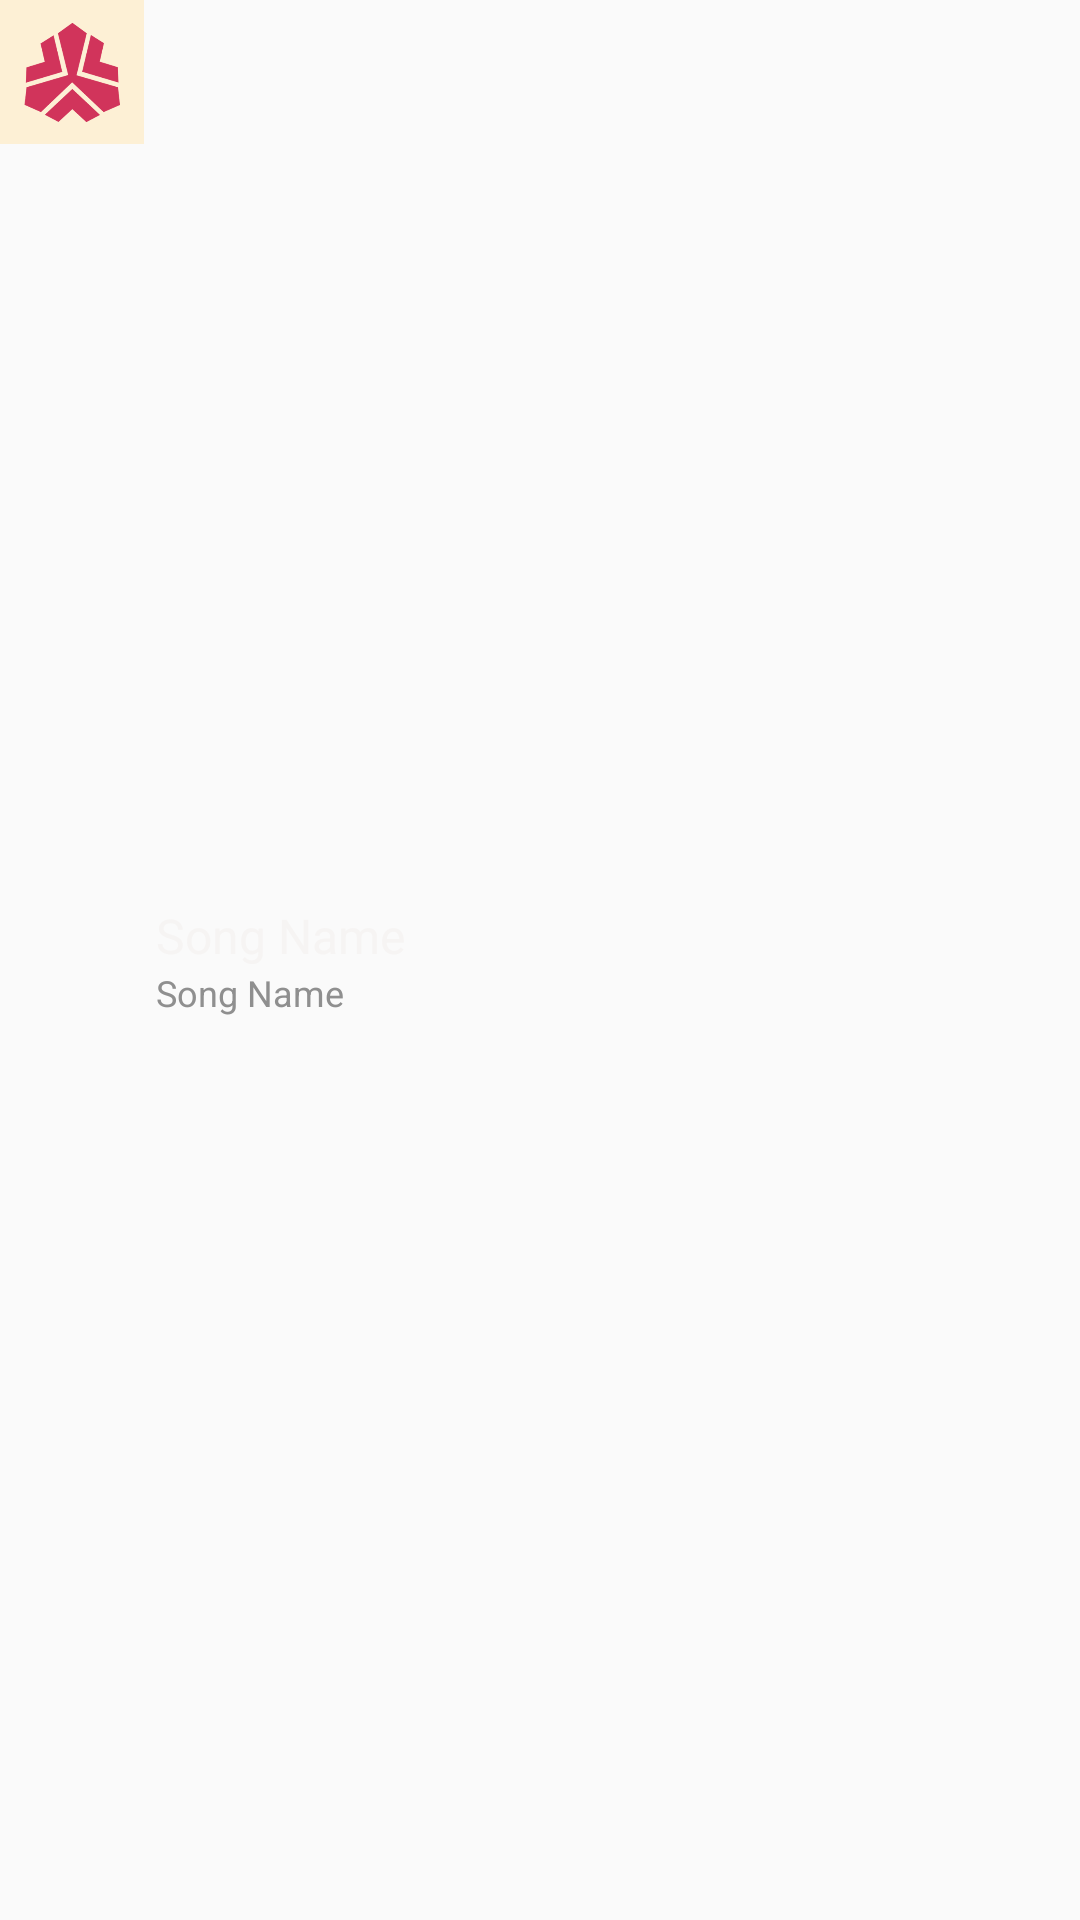

Icons on this 1080*1920 Android screen, each with its box as (x1, y1, x2, y2):
echo album art: (0, 0, 144, 144)
